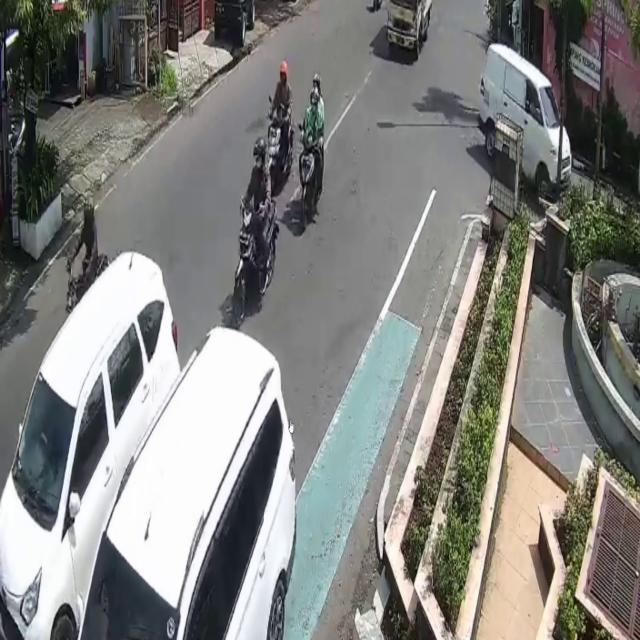car: (0, 246, 185, 640), (77, 323, 298, 640), (473, 40, 572, 212)
motorbike: (232, 196, 278, 328), (66, 253, 109, 330), (301, 133, 322, 229), (267, 116, 292, 194)
truck: (387, 0, 434, 64)
